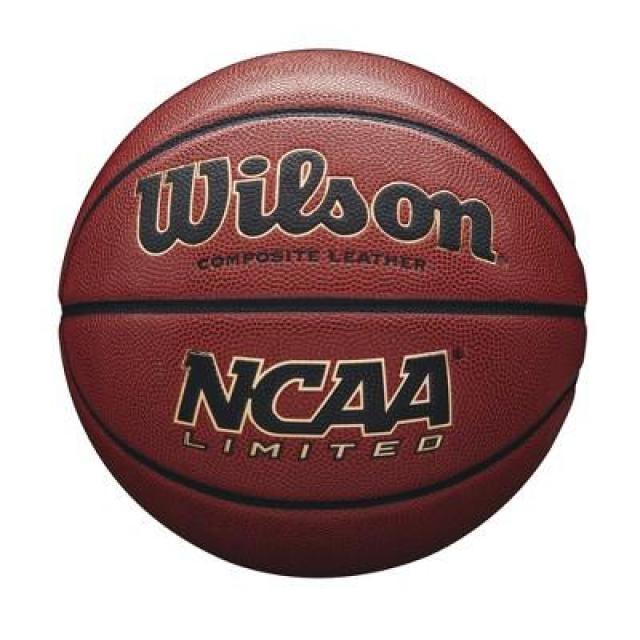ball: (51, 49, 594, 582)
